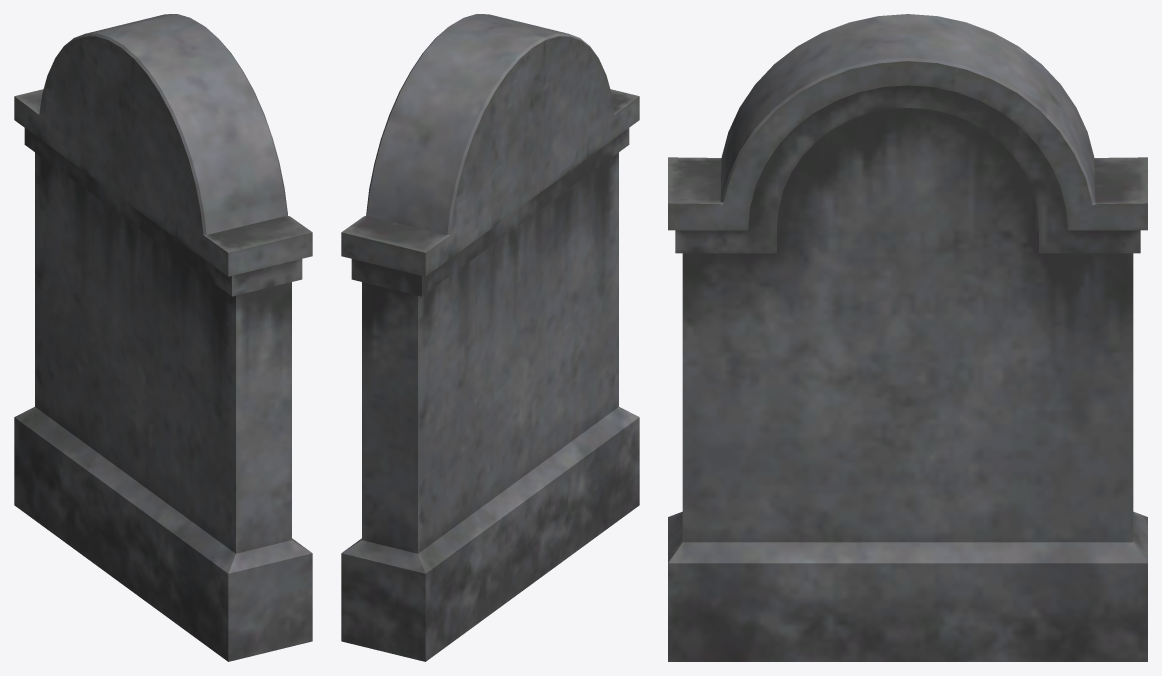
Rendered from Cemetery_OBJ_Tombstone_07.fbx.
3 views of the same model, side by side, from view 1: azimuth 30°, elevation 25°; view 2: azimuth 150°, elevation 25°; view 3: azimuth 270°, elevation 25° (orthographic). The views are drawn at different scales.
Parts seen in each view (by area): view 1: Cemetery_OBJ_Tombstone_07; view 2: Cemetery_OBJ_Tombstone_07; view 3: Cemetery_OBJ_Tombstone_07.
Part boxes in pixels (x1=…): Cemetery_OBJ_Tombstone_07: x1=14, y1=14, x2=312, y2=661; Cemetery_OBJ_Tombstone_07: x1=341, y1=14, x2=639, y2=661; Cemetery_OBJ_Tombstone_07: x1=668, y1=14, x2=1147, y2=661.
Bounding box in the file's own units: 17.18 × 105 × 75.58.
Materials: 1 (1 with a texture image).
